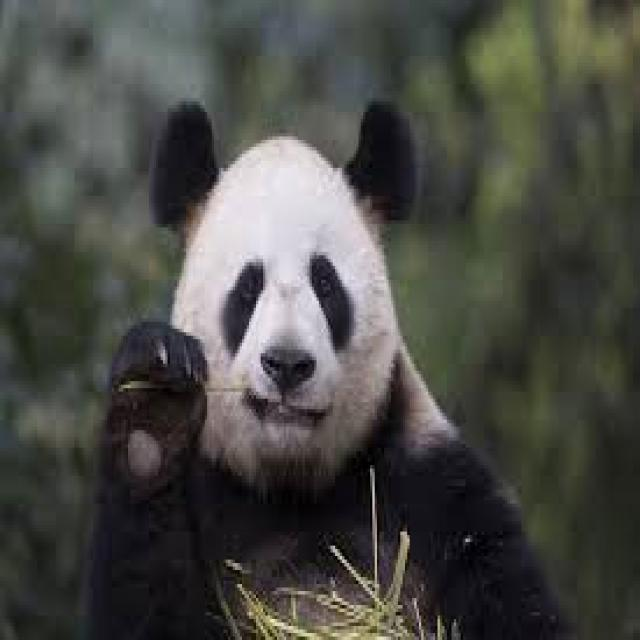panda: (88, 101, 570, 637)
